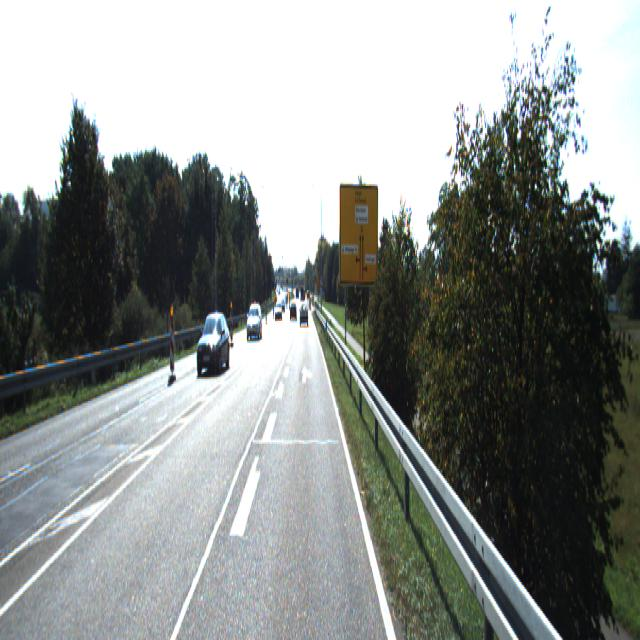Car: (196, 311, 231, 380), (246, 303, 262, 340), (300, 304, 308, 326)
